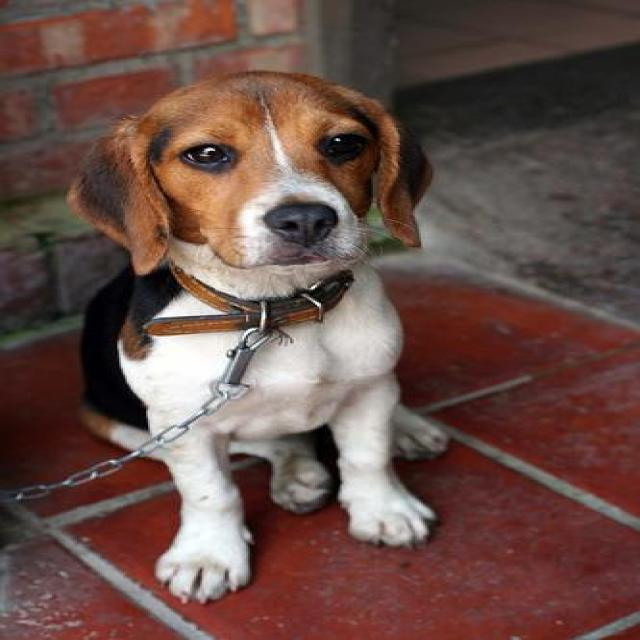beagle: (69, 68, 452, 602)
